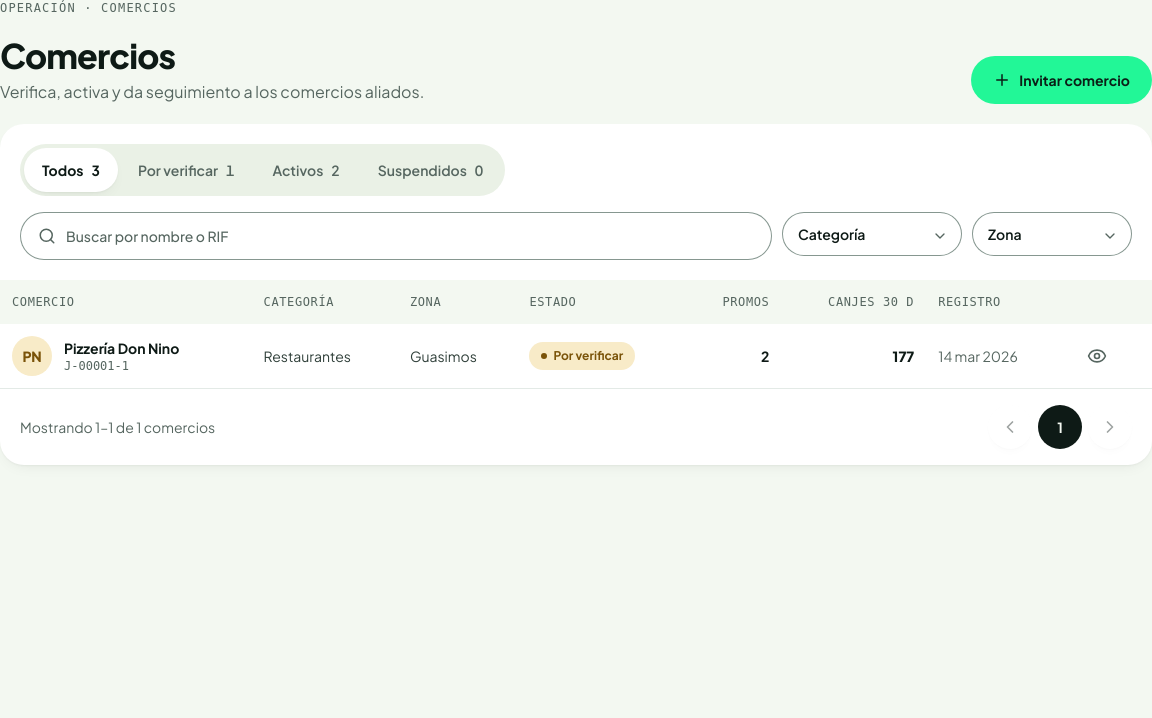
Test: B03 lista de comercios › abre la verificacion al elegir un comercio
Click the link "Pizzería Don Nino" at [122, 348], box [64,338,179,358]
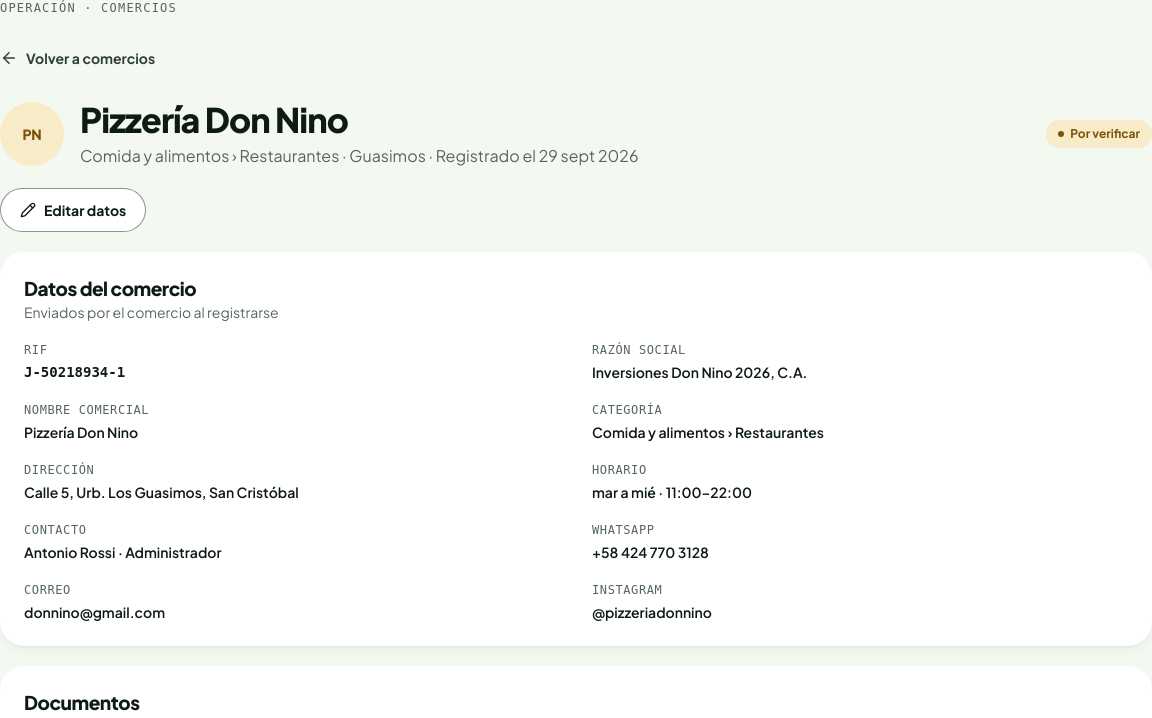
Expected: the heading "Pizzería Don Nino" is shown, [80,98,348,141]
